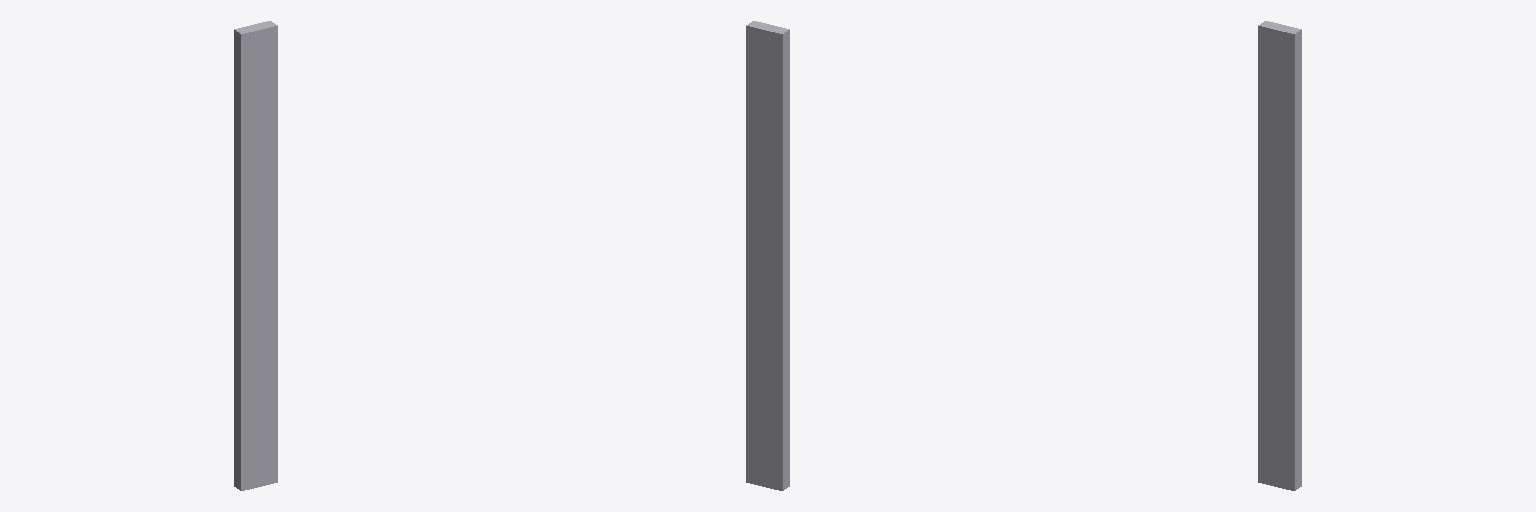
URDF robot description (spoon_silver):
<?xml version="1.0"?>
<robot name="spoon_silver">
  <link name="base_link">
    <inertial>
      <origin xyz="0 0 0.090000" rpy="0 0 0"/>
      <mass value="0.035"/>
      <inertia ixx="0.00009457" ixy="0" ixz="0" iyy="0.00009516" iyz="0" izz="0.00000073"/>
    </inertial>
    <visual>
      <origin xyz="0 0 0.090000" rpy="0 0 0"/>
      <geometry><box size="0.015 0.005 0.18"/></geometry>
      <material name="spoon_silver_mat">
        <color rgba="0.75 0.75 0.78 1.0"/>
      </material>
    </visual>
    <collision>
      <origin xyz="0 0 0.090000" rpy="0 0 0"/>
      <geometry><box size="0.015 0.005 0.18"/></geometry>
    </collision>
  </link>
</robot>

--- What the picture shows (computed from the rendered views, not written in the file) ---
Views: 3 orthographic renders of the robot side by side, from view 1: azimuth 30°, elevation 25°; view 2: azimuth 150°, elevation 25°; view 3: azimuth 330°, elevation 25°.
Robot: spoon_silver — 1 links, 0 joints (none); root link base_link; default pose: all joints at 0.
Links seen in each view (by area): view 1: base_link; view 2: base_link; view 3: base_link.
Boxes of the visible links, left/top/right/bottom form: base_link: left=234, top=21, right=277, bottom=490; base_link: left=746, top=21, right=789, bottom=490; base_link: left=1258, top=21, right=1301, bottom=490.
Size in the robot's own frame: 0.015 by 0.005 by 0.18 metres.
Geometry: primitives only (box / cylinder / sphere), no mesh files.
